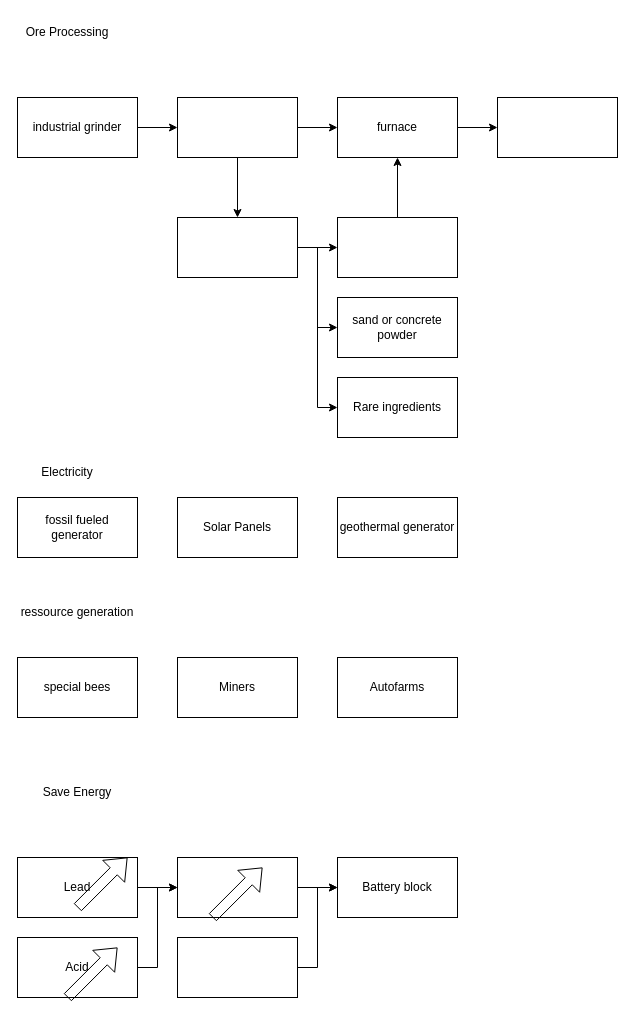
Some shapes in this 635 by 1018 pixel diagram are drawn without their labels. The shapes that lost their labels are listed below. From the top down, each one's box as (x1, y1, x2, y2) in pixels, then its label:
(176, 96, 298, 158): 2 x pulverized ore
(496, 96, 618, 158): refined material
(176, 216, 298, 278): Pulver Refinery
(336, 216, 458, 278): ore dust
(176, 856, 298, 918): Lead Battery
(176, 936, 298, 998): Wooden Case
